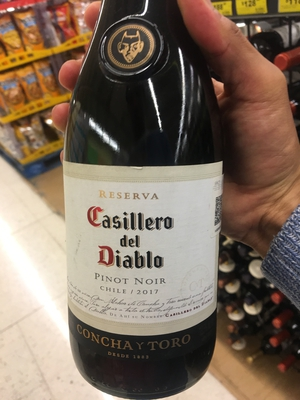casillero del diablo pinot noir: (65, 3, 236, 400)
